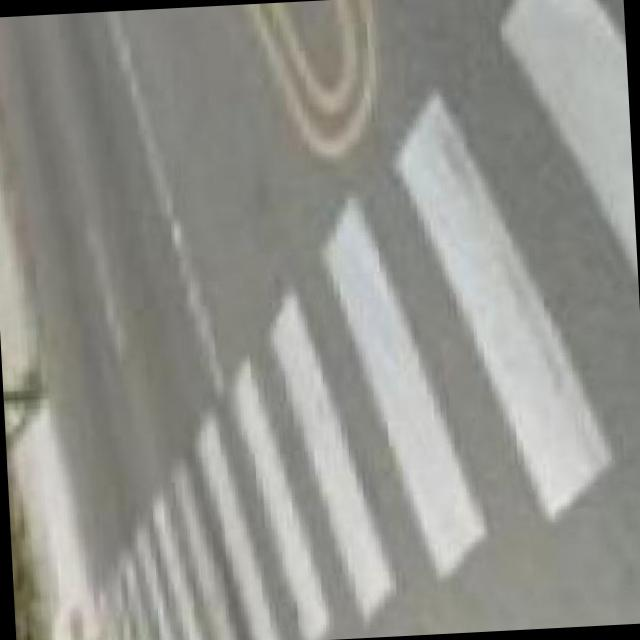zebra: (89, 0, 638, 640)
